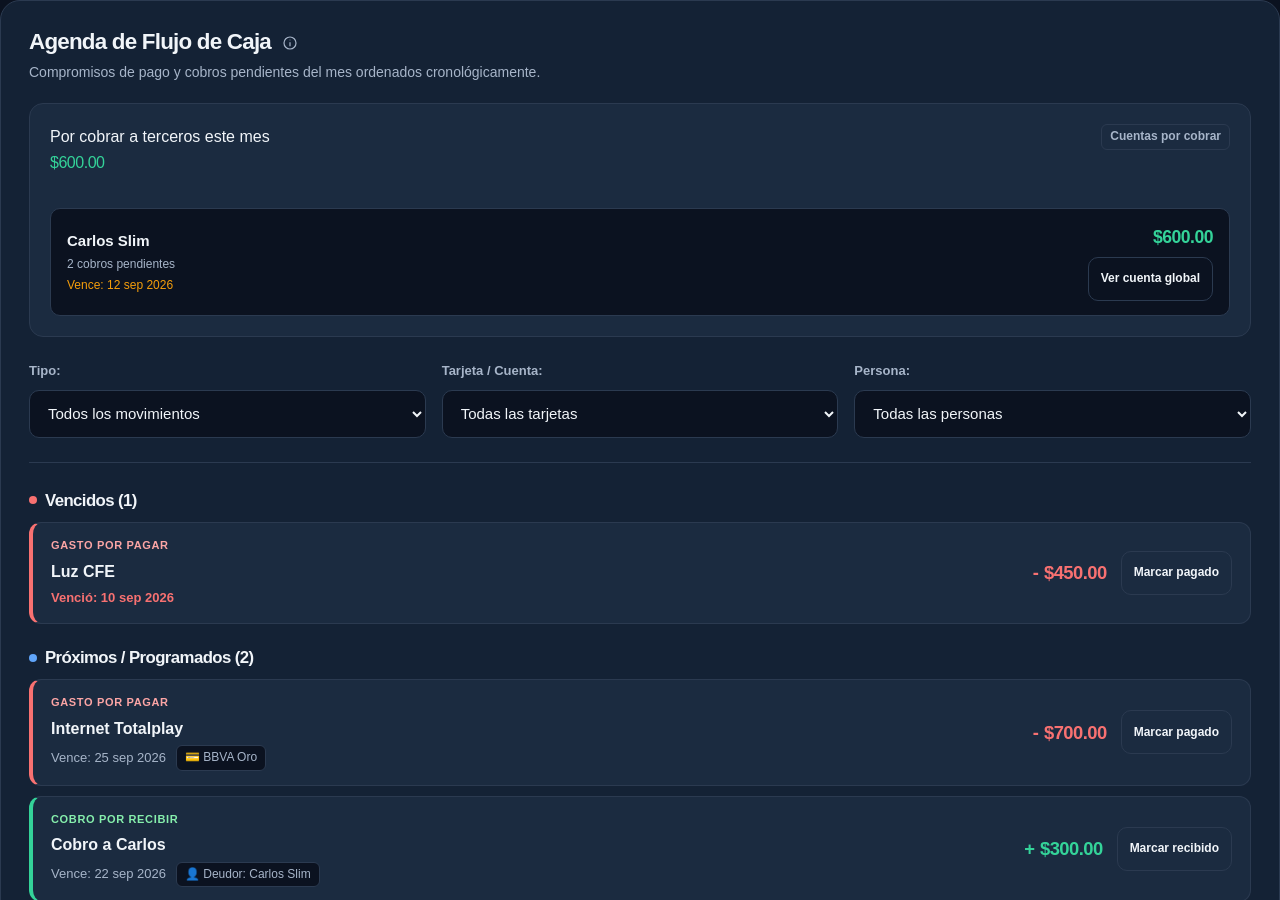
CashflowAgenda (HU-FE-08.3) › filters items by type, card, and debtor person
expect the text "Luz CFE" is shown: met, box [51, 562, 115, 580]
expect the text "Internet Totalplay" is shown: met, box [51, 720, 183, 737]
Note: Filter by type: Solo cobros pendientes
Select "Solo cobros pendientes" in the dropdown labelled "Tipo:": (227, 414) [29, 390, 426, 438]
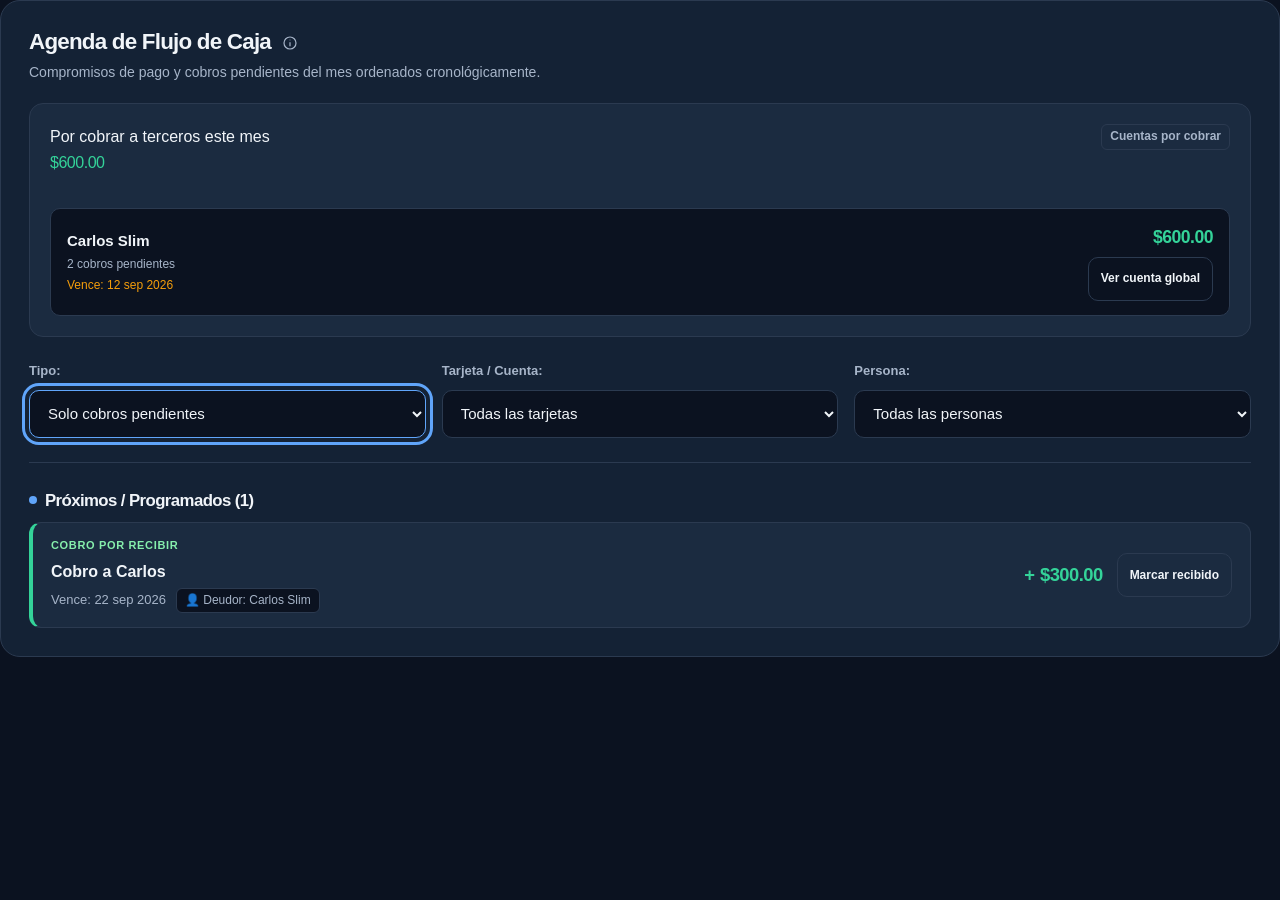
expect the text "Cobro a Carlos" is shown: met, box [51, 562, 166, 580]
expect the text "Luz CFE" is gone: met
expect the text "Internet Totalplay" is gone: met
Note: Reset to ALL and filter by card
Select "Todos los movimientos" in the dropdown labelled "Tipo:": (227, 414) [29, 390, 426, 438]
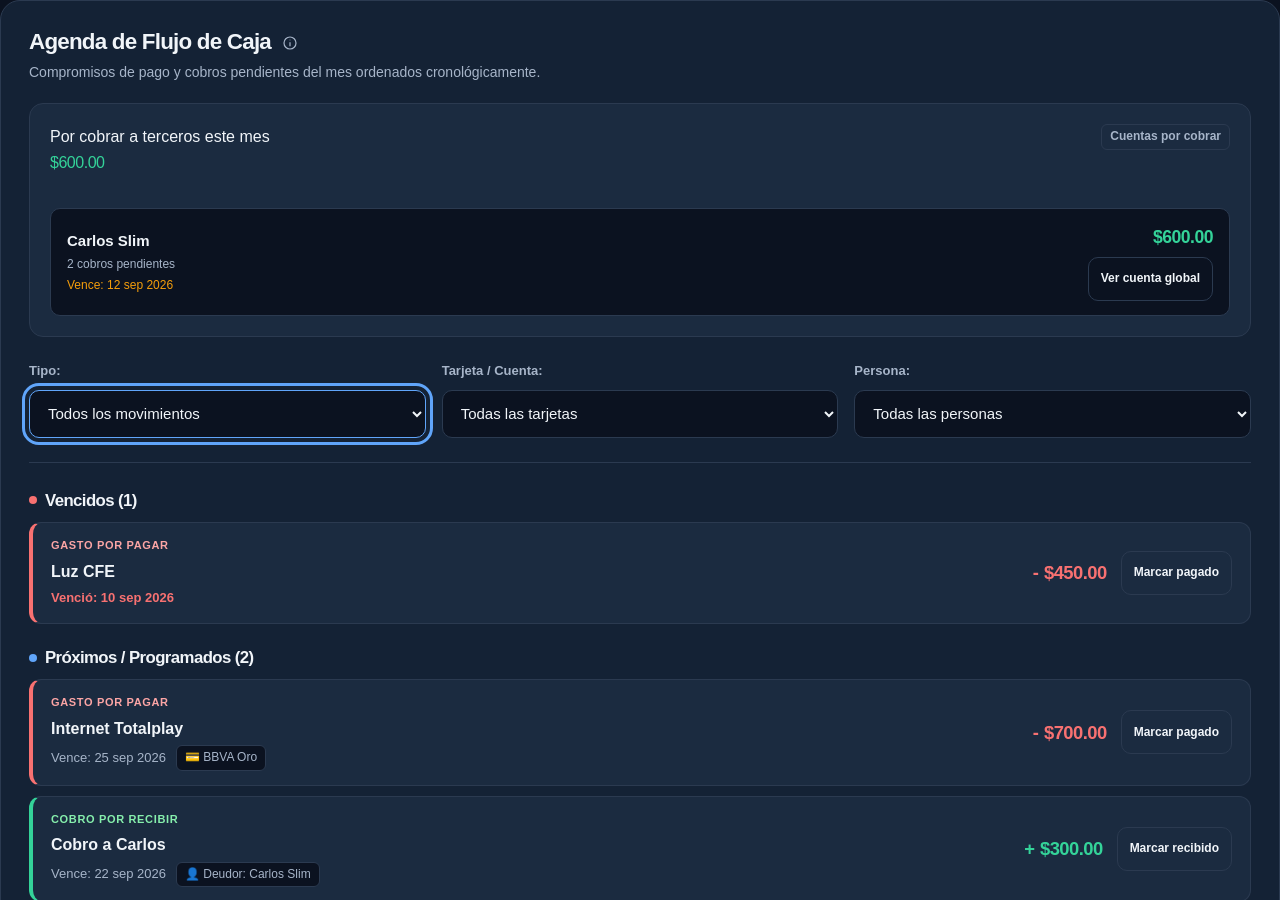
Select "BBVA Oro (Crédito)" in the dropdown labelled "Tarjeta / Cuenta:": (640, 414) [442, 390, 838, 438]
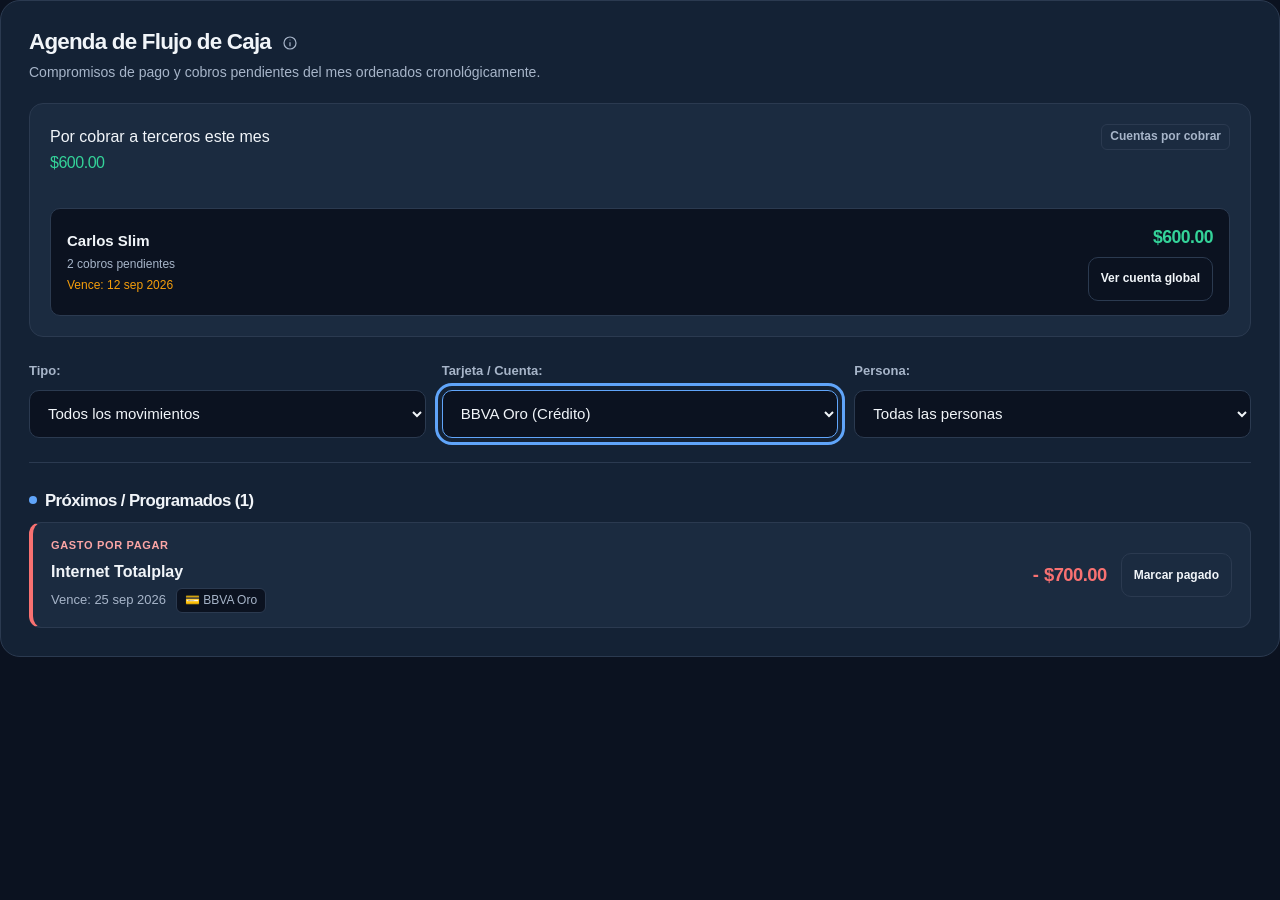
expect the text "Internet Totalplay" is shown: met, box [51, 562, 183, 580]
expect the text "Luz CFE" is gone: met
expect the text "Cobro a Carlos" is gone: met
